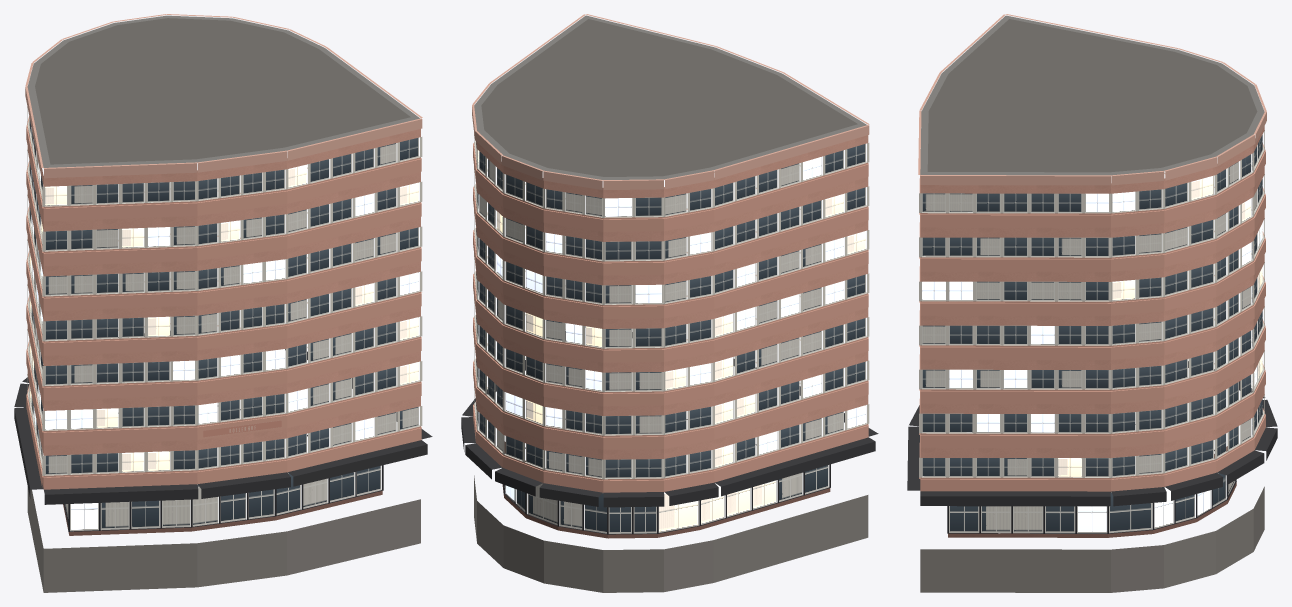
Rendered from kollerhof.glb.
3 views of the same model, side by side, from view 1: azimuth 30°, elevation 25°; view 2: azimuth 150°, elevation 25°; view 3: azimuth 270°, elevation 25° (orthographic). The views are drawn at different scales.
Parts seen in each view (by area): view 1: kollerhof; view 2: kollerhof; view 3: kollerhof.
Part boxes in pixels (box(x1,y1,x2,y2)): kollerhof: box(14, 14, 432, 592); kollerhof: box(461, 14, 878, 592); kollerhof: box(907, 14, 1277, 592).
Bounding box in the file's own units: 27.88 × 31.75 × 25.51.
Materials: 3 (3 with a texture image).
